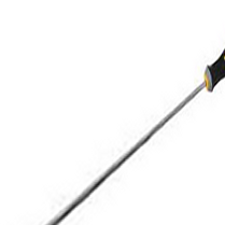screwdriver: (33, 49, 225, 225)
